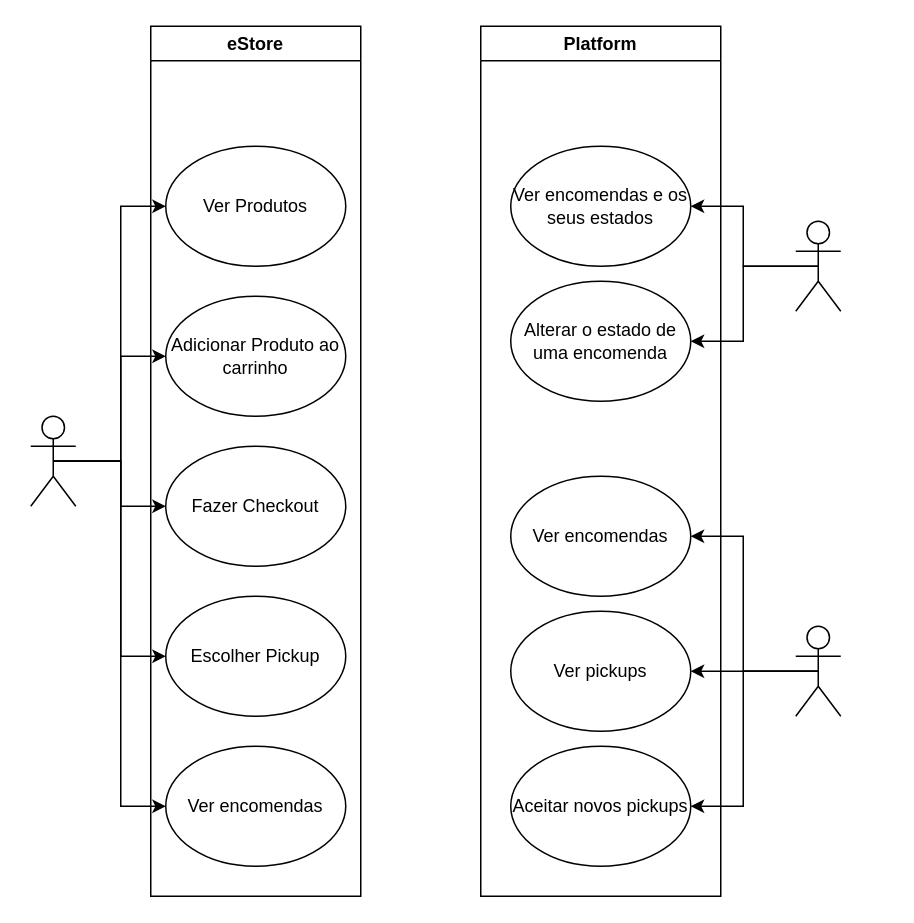
This 914x923 diagram has some shape labels left out. Here are the shapes that lost their labels. From the top down, the box of each, then its label:
(794, 220, 841, 311): Pickup Employee
(29, 415, 76, 506): Cliente
(794, 625, 841, 716): Platform admin
